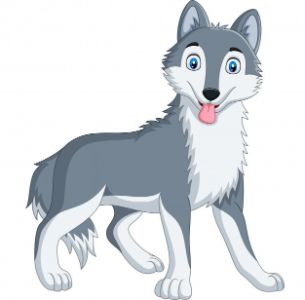wolf: (22, 3, 295, 297)
